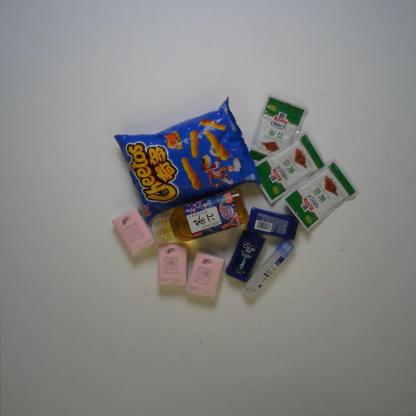Drink: (150, 186, 249, 245)
Personal Hygiene: (224, 229, 266, 284), (248, 204, 297, 239)
Puffed Food: (110, 96, 259, 224)
Seasoner: (281, 158, 358, 236), (251, 132, 329, 208), (248, 94, 308, 169)
Stationery: (244, 240, 297, 298)
Tissue: (183, 248, 225, 300), (108, 209, 154, 256), (153, 240, 187, 294)
